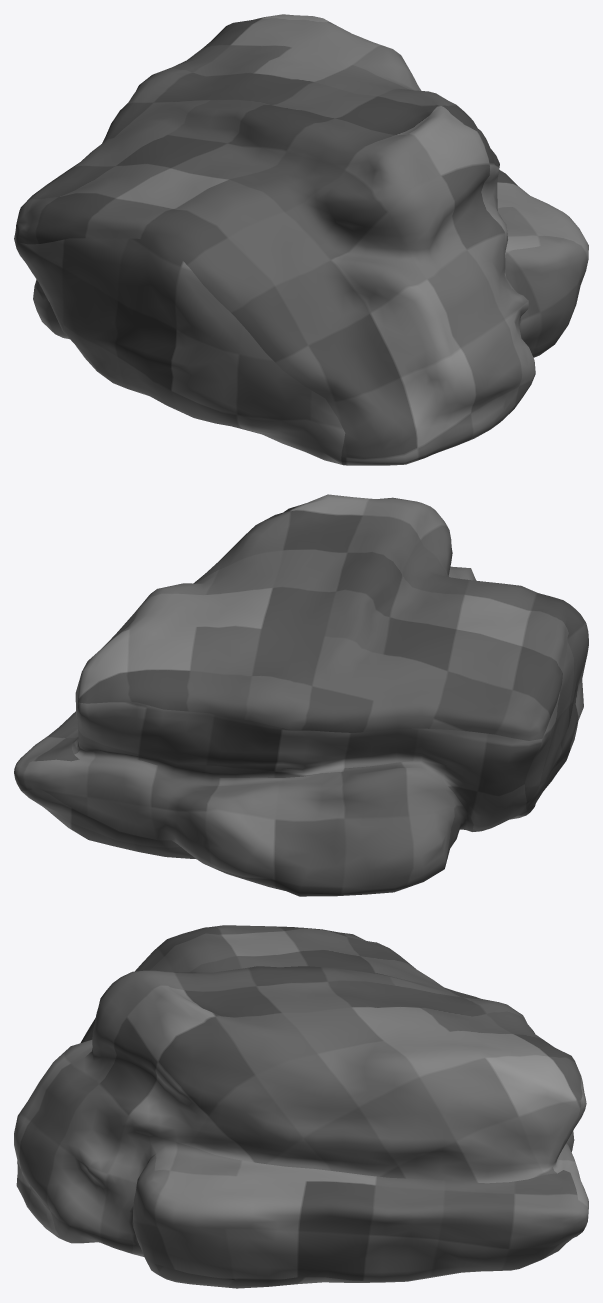
Rendered from Rock_1.obj.
3 views of the same model, one above another, from view 1: azimuth 30°, elevation 25°; view 2: azimuth 150°, elevation 25°; view 3: azimuth 270°, elevation 25° (orthographic). The views are drawn at different scales.
Visible parts, largest first — view 1: Rock_1; view 2: Rock_1; view 3: Rock_1.
Part boxes in pixels (bbox=[...]): Rock_1: bbox=[14, 14, 588, 465]; Rock_1: bbox=[14, 494, 588, 896]; Rock_1: bbox=[14, 925, 588, 1288].
Size of the model in its own units: 2.7 by 1.48 by 2.97.
Materials: 1 (1 with a texture image).
